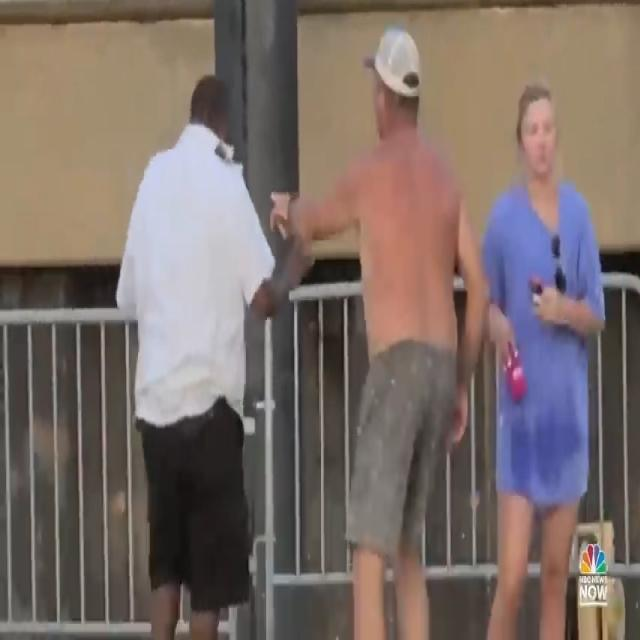non-fight: (115, 18, 608, 640)
